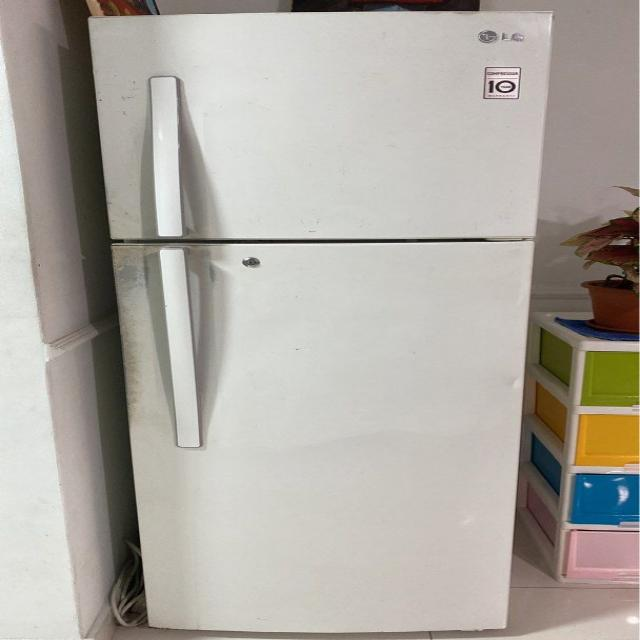refrigerator: (89, 9, 555, 632)
